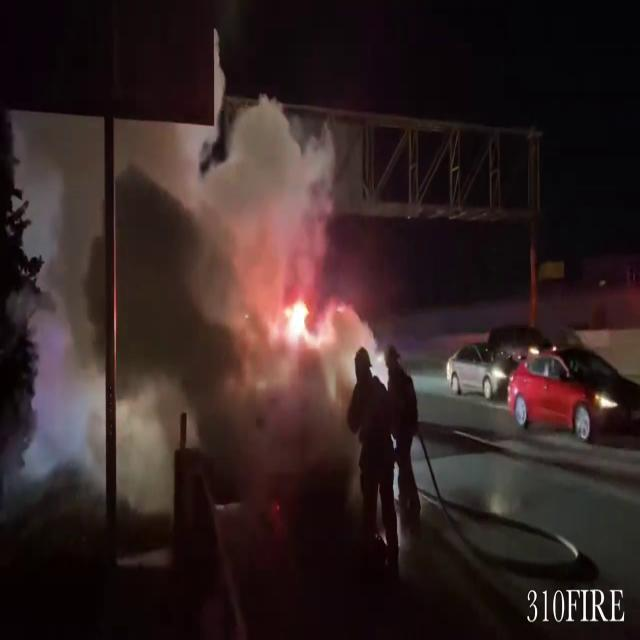Fire: (270, 276, 332, 361)
Smoke: (73, 87, 397, 504)
